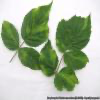Raspberry leaf: (21, 0, 54, 49), (66, 12, 93, 51), (38, 40, 59, 77), (54, 66, 80, 92), (17, 47, 43, 73), (1, 19, 19, 51), (63, 50, 89, 71), (55, 18, 69, 52)
